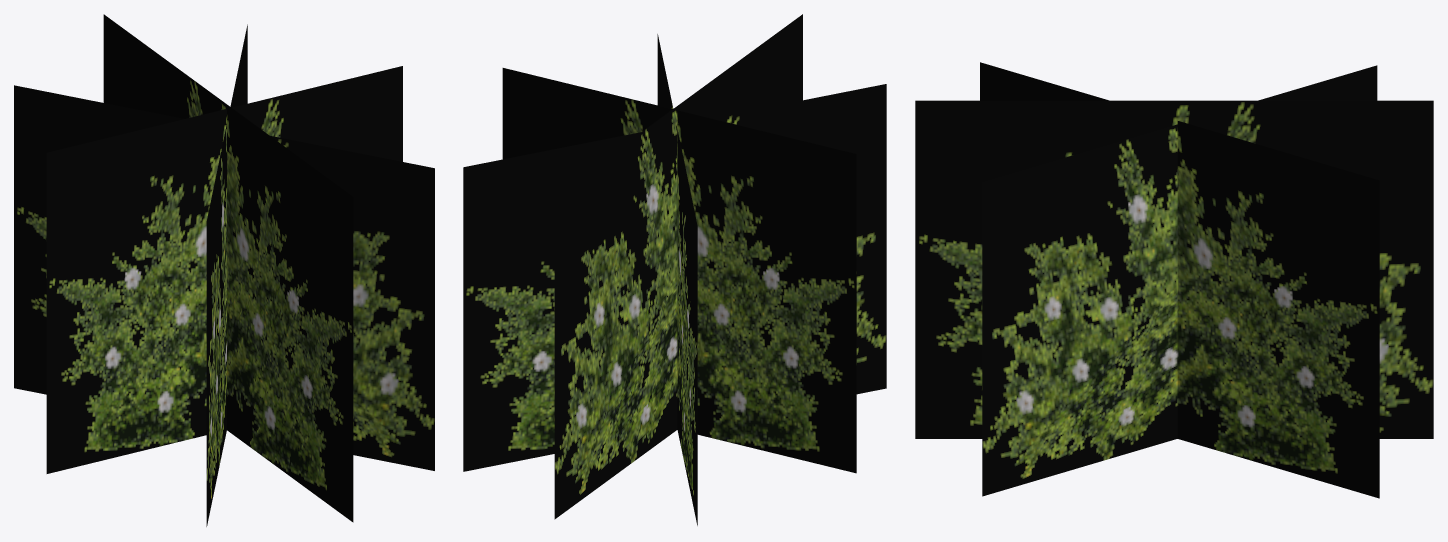
The model's file is BushRedFlowers.fbx.
3 views of the same model, side by side, from view 1: azimuth 30°, elevation 25°; view 2: azimuth 150°, elevation 25°; view 3: azimuth 270°, elevation 25° (orthographic). The views are drawn at different scales.
Parts seen in each view (by area): view 1: whiteFlowerBush; view 2: whiteFlowerBush; view 3: whiteFlowerBush.
Part boxes in pixels (<box>): whiteFlowerBush: <box>14,14,434,526</box>; whiteFlowerBush: <box>463,14,886,525</box>; whiteFlowerBush: <box>915,62,1433,498</box>.
Bounding box in the file's own units: 686 × 834 × 600.
1 material, 1 textured.
